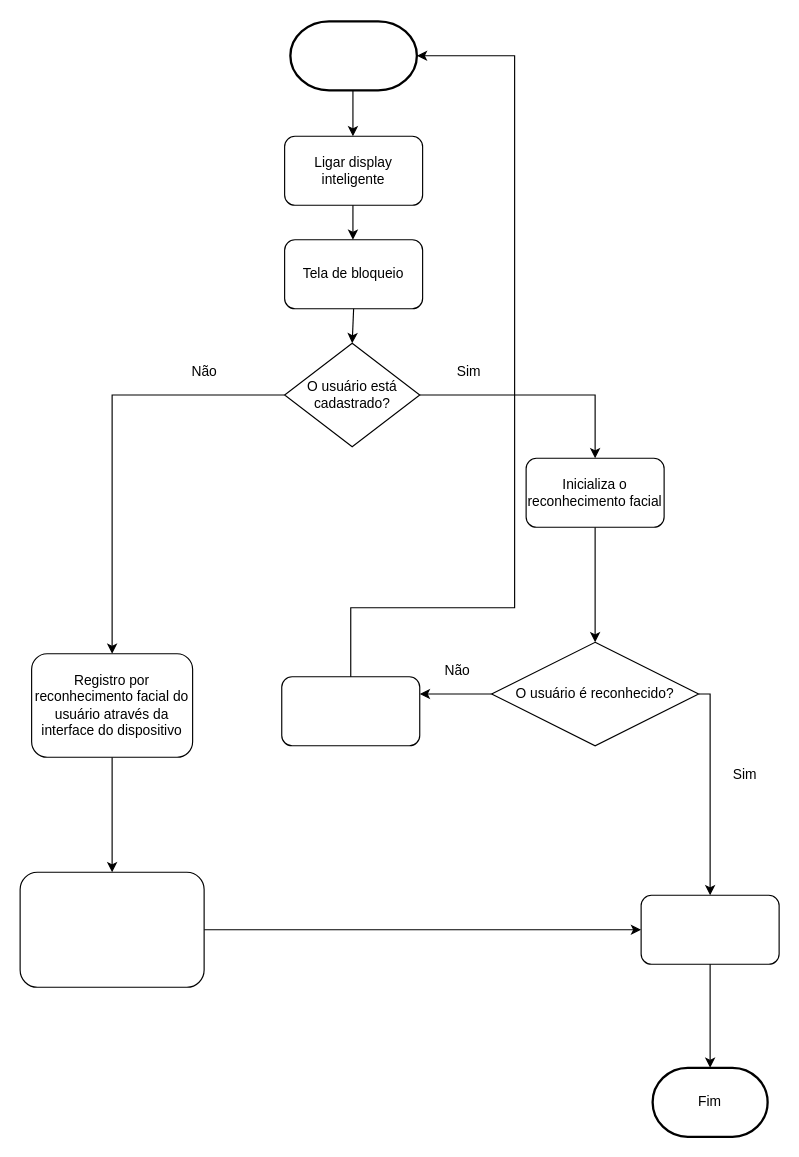
Image size: 799x1157. Some labels were removed from this diagram. Each missing label, with the box of its shape:
Início: (289, 20, 417, 91)
Mensagem de erro: (281, 676, 420, 746)
O usuário navega em sua interface personalizada: (640, 894, 779, 964)
O usuário seleciona os widgets: Notícias, mercado de ações, versículos, esporte: (19, 871, 204, 987)
